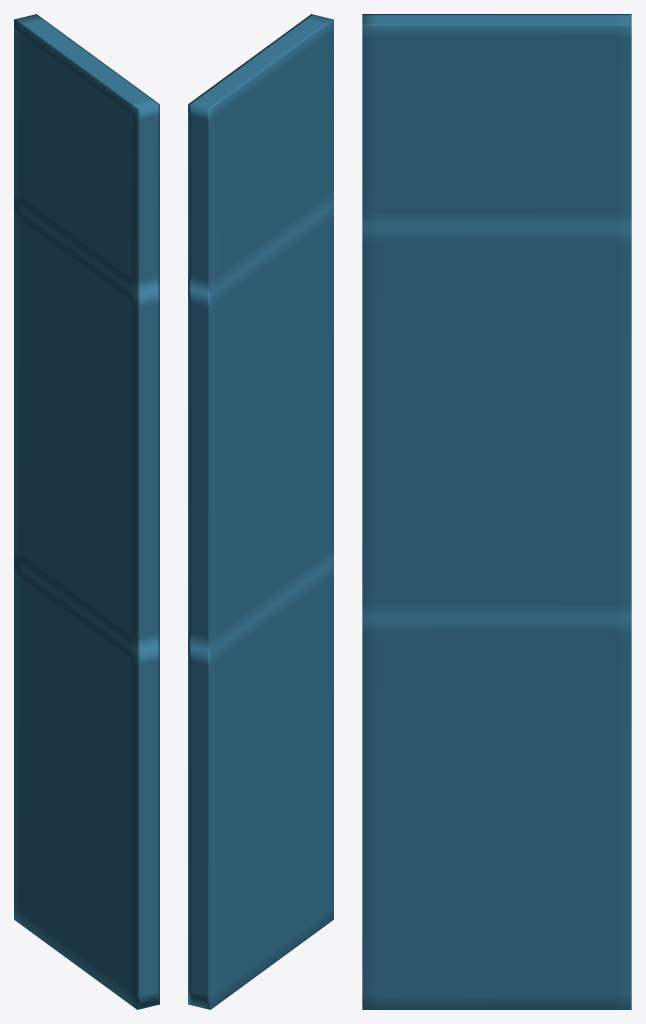
Rendered from Door_03_L_Lod0.fbx.
3 renders of one model, left to right at view 1: azimuth 30°, elevation 25°; view 2: azimuth 150°, elevation 25°; view 3: azimuth 270°, elevation 25°, orthographic. The views are drawn at different scales.
Parts seen in each view (by area): view 1: Door_03_L_Lod0; view 2: Door_03_L_Lod0; view 3: Door_03_L_Lod0.
Part boxes in pixels (x1=…): Door_03_L_Lod0: x1=14, y1=14, x2=159, y2=1009; Door_03_L_Lod0: x1=188, y1=14, x2=333, y2=1009; Door_03_L_Lod0: x1=362, y1=14, x2=631, y2=1009.
Bounding box in the file's own units: 9.93 × 377 × 93.69.
